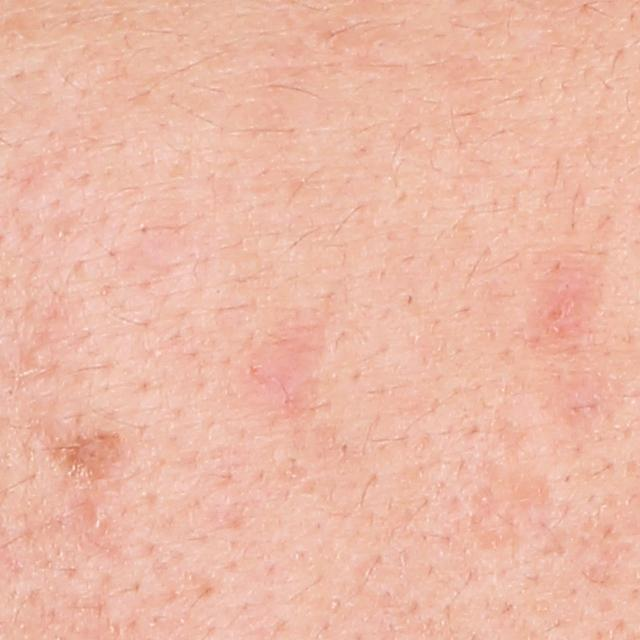comedo: (22, 344, 53, 373)
